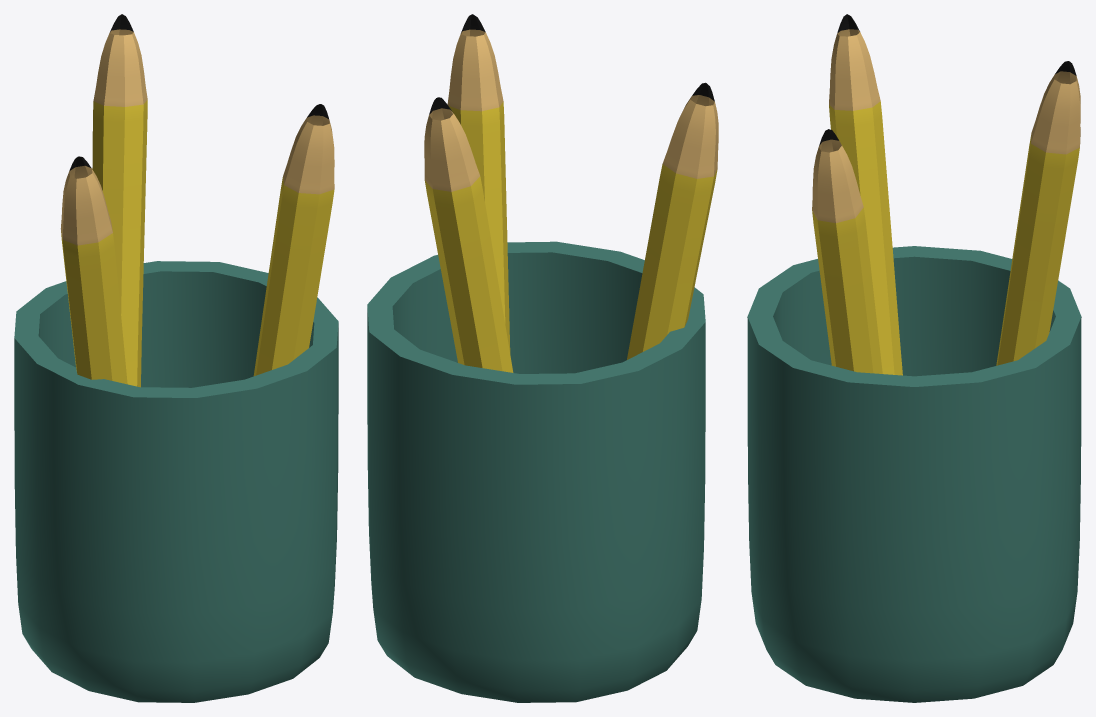
Rendered from lapicero.glb.
The picture shows the model from 3 angles, left to right: view 1: azimuth 30°, elevation 25°; view 2: azimuth 150°, elevation 25°; view 3: azimuth 270°, elevation 25°; orthographic projection. The views are drawn at different scales.
Visible parts, largest first — view 1: lapicero; view 2: lapicero; view 3: lapicero.
Boxes of the visible parts, <box> form: lapicero: <box>14,14,338,702</box>; lapicero: <box>367,14,718,702</box>; lapicero: <box>747,14,1081,702</box>.
Size of the model in its own units: 0.2665 by 0.52 by 0.2641.
